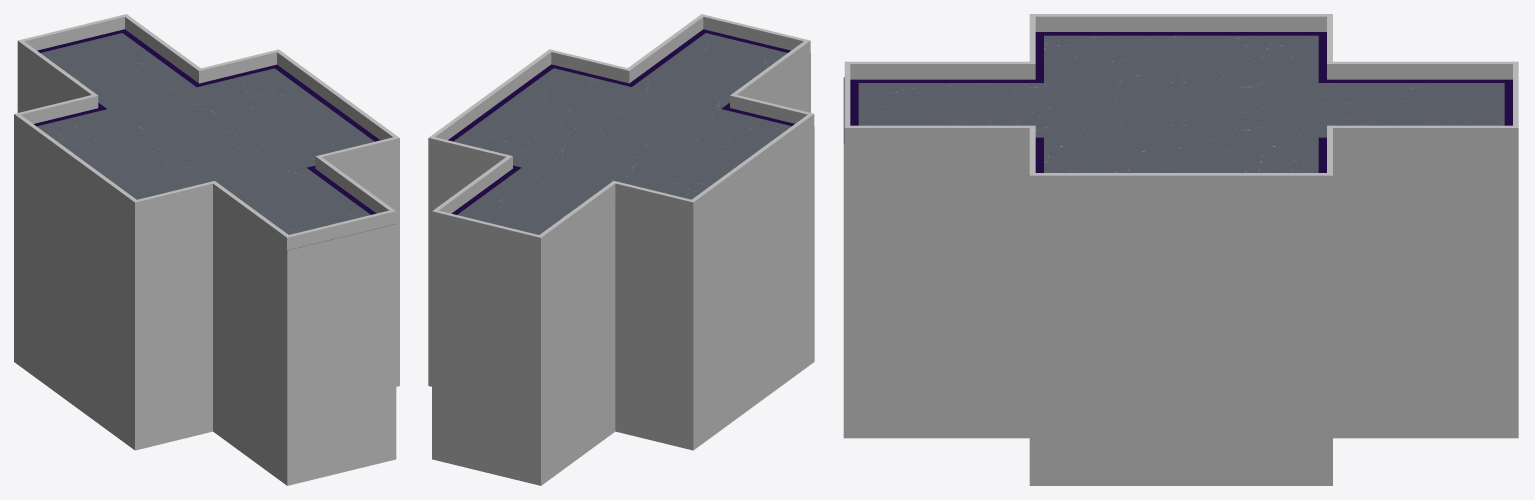
File: Duel_A1_Stage_PendulumHammer.fbx
3 views of the same model, side by side, from view 1: azimuth 30°, elevation 25°; view 2: azimuth 150°, elevation 25°; view 3: azimuth 270°, elevation 25° (orthographic). The views are drawn at different scales.
Parts seen in each view (by area): view 1: Platform_Cube__1_.006, Platform_Cube__1_.004, Platform_Cube__1_.005; view 2: Platform_Cube__1_.006, Platform_Cube__1_.004, Platform_Cube__1_.005; view 3: Platform_Cube__1_.006, Platform_Cube__1_.004, Platform_Cube__1_.005.
Boxes of the visible parts, box(x1,y1,x2,y2) form: Platform_Cube__1_.006: box(14, 33, 399, 485); Platform_Cube__1_.004: box(14, 14, 399, 250); Platform_Cube__1_.005: box(34, 29, 379, 214); Platform_Cube__1_.006: box(428, 33, 814, 485); Platform_Cube__1_.004: box(428, 14, 814, 250); Platform_Cube__1_.005: box(448, 29, 794, 214); Platform_Cube__1_.006: box(843, 35, 1518, 485); Platform_Cube__1_.004: box(844, 14, 1518, 191); Platform_Cube__1_.005: box(850, 32, 1512, 172).
Size of the model in its own units: 3397 by 3039 by 6013.
